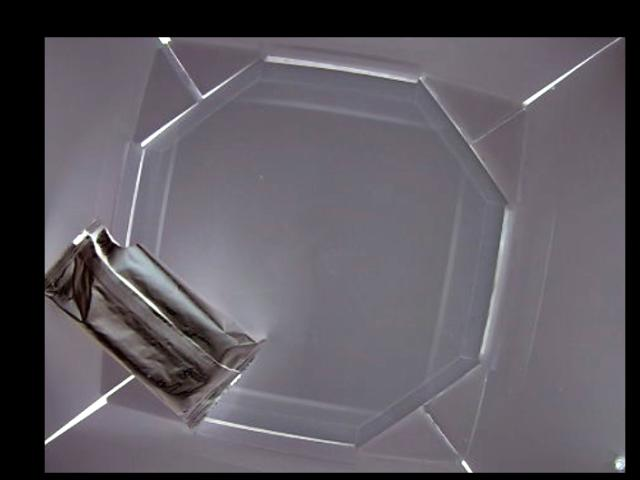Medicine: (44, 222, 267, 431)
